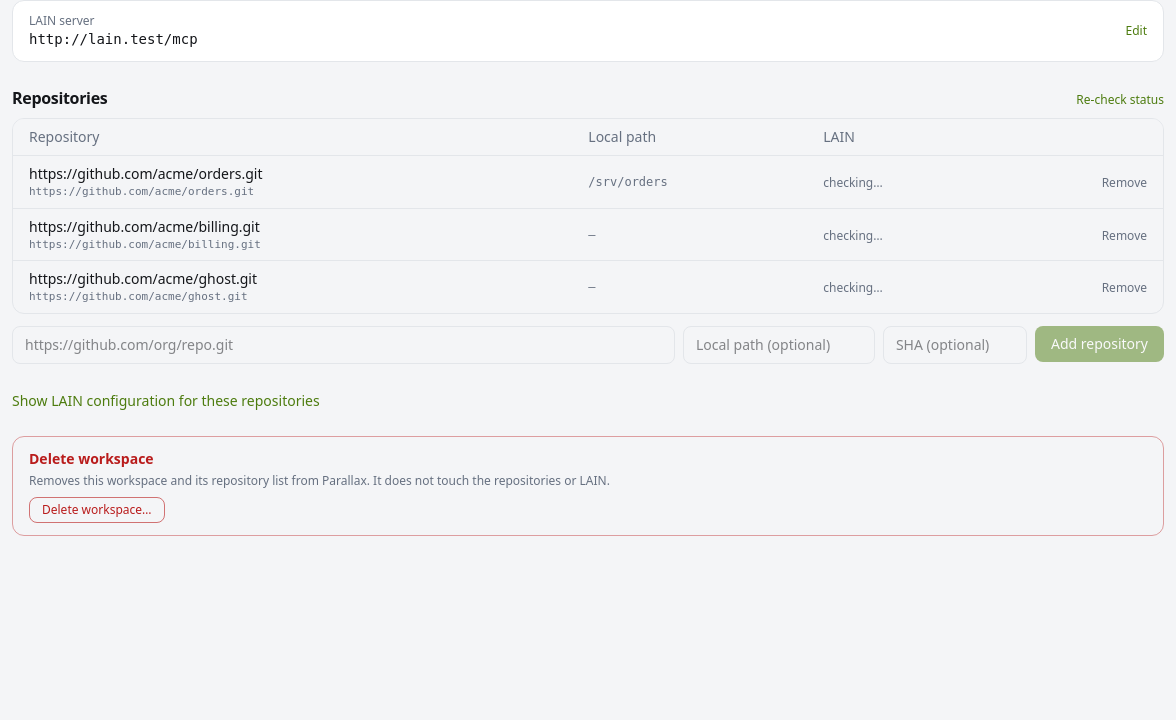
Test: RepoManager — add and remove › sends the SHA when given, and shows the server’s reason when the repo is a duplicate
In the field named "Repository URL or path": (343, 345) [12,326,675,364], type "x"
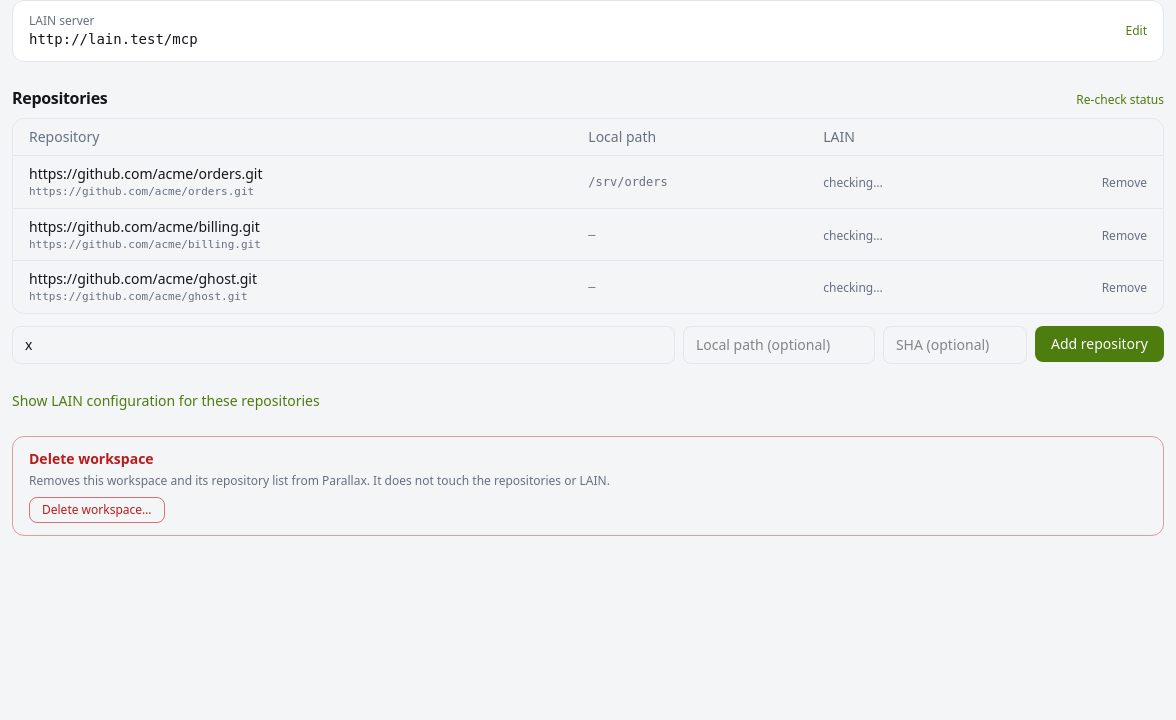
In the field named "Commit SHA": (955, 345) [883,326,1027,364], type "abc123"
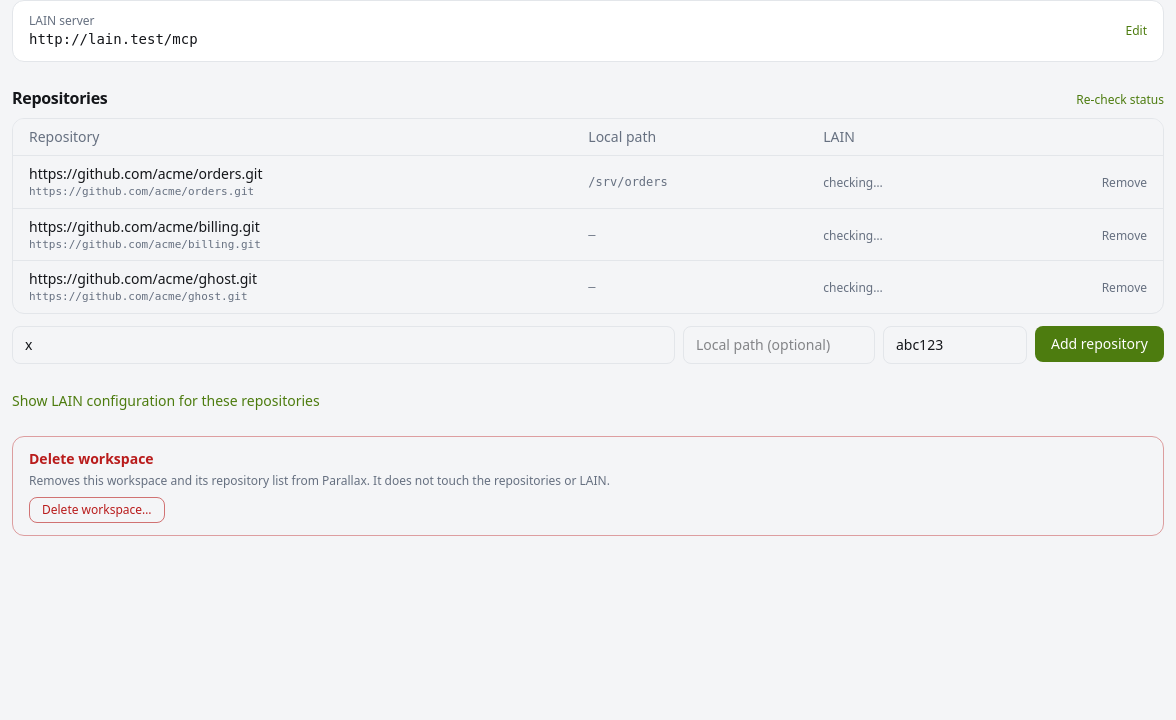
Click the button "Add repository": (1099, 344) [1035,326,1164,362]
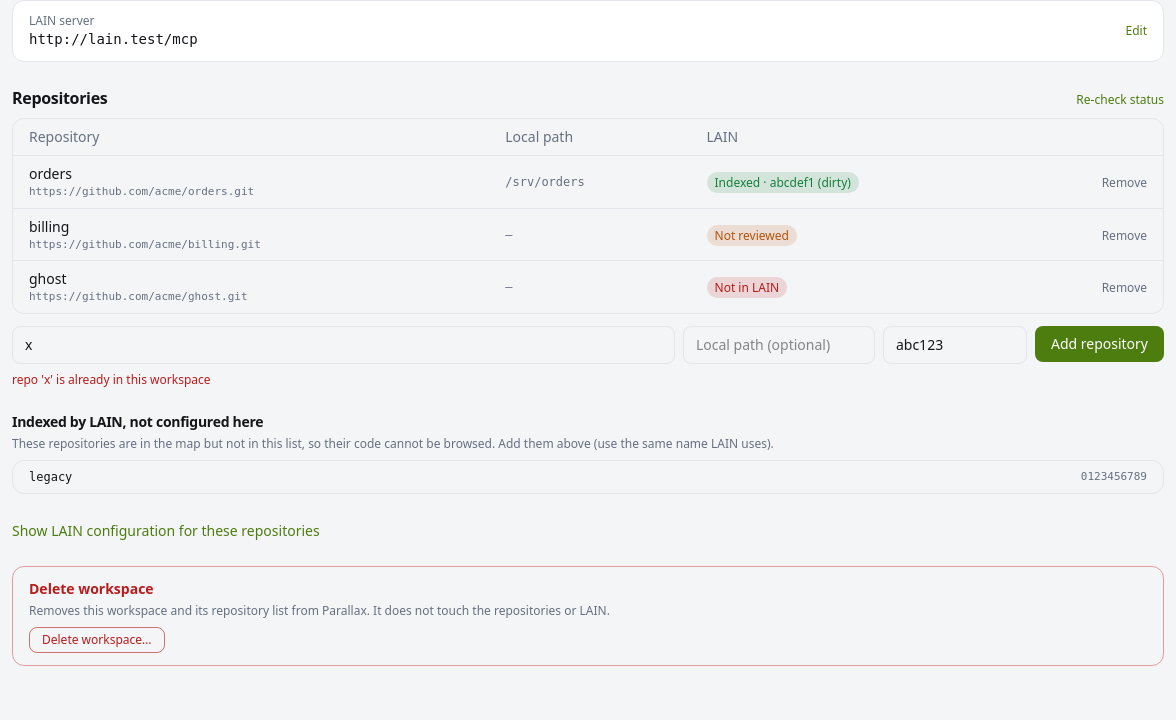
Result: the message reads "repo 'x' is already in this workspace" at [12,371,210,388]
